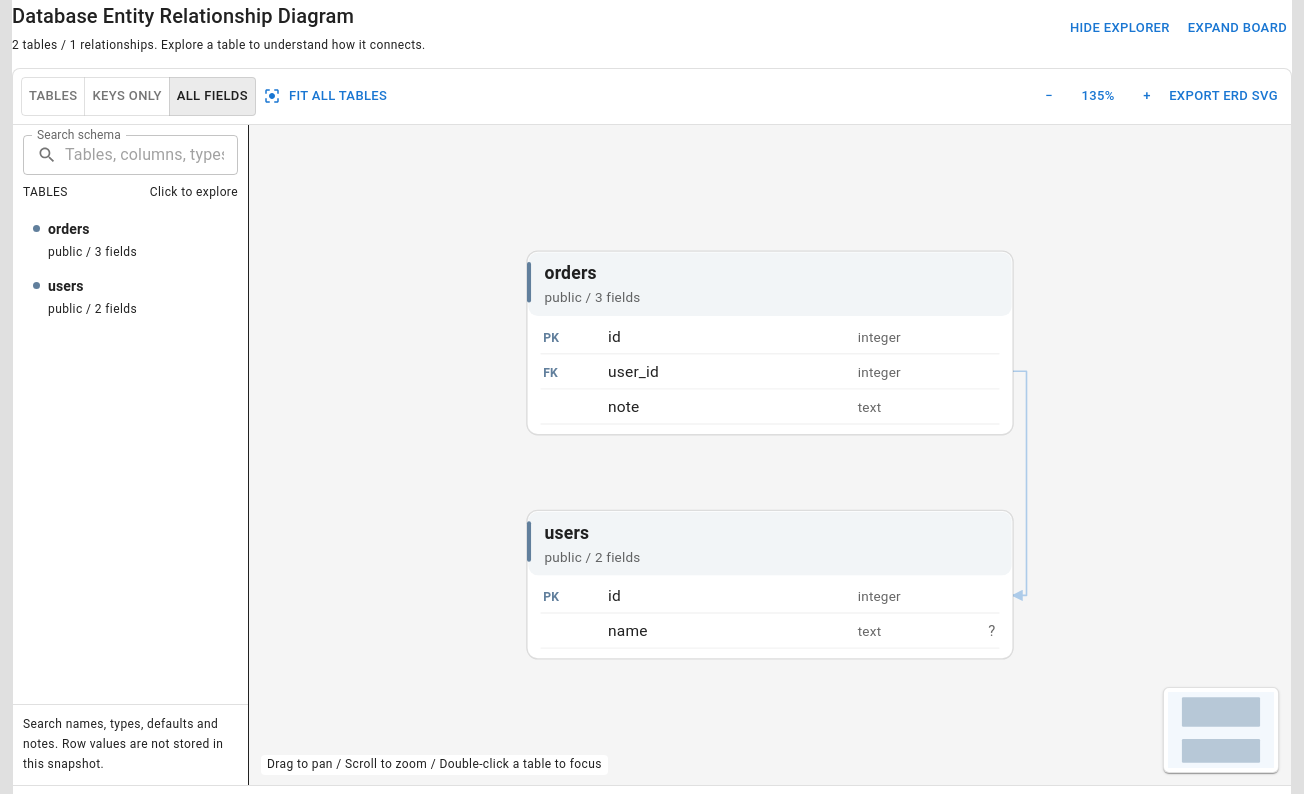
Scenario: filters tables and handles searches without matches
The image size is (1304, 794).
Type "orders" into the field labelled "Search schema" at (152, 155), box [65,135,238,175]
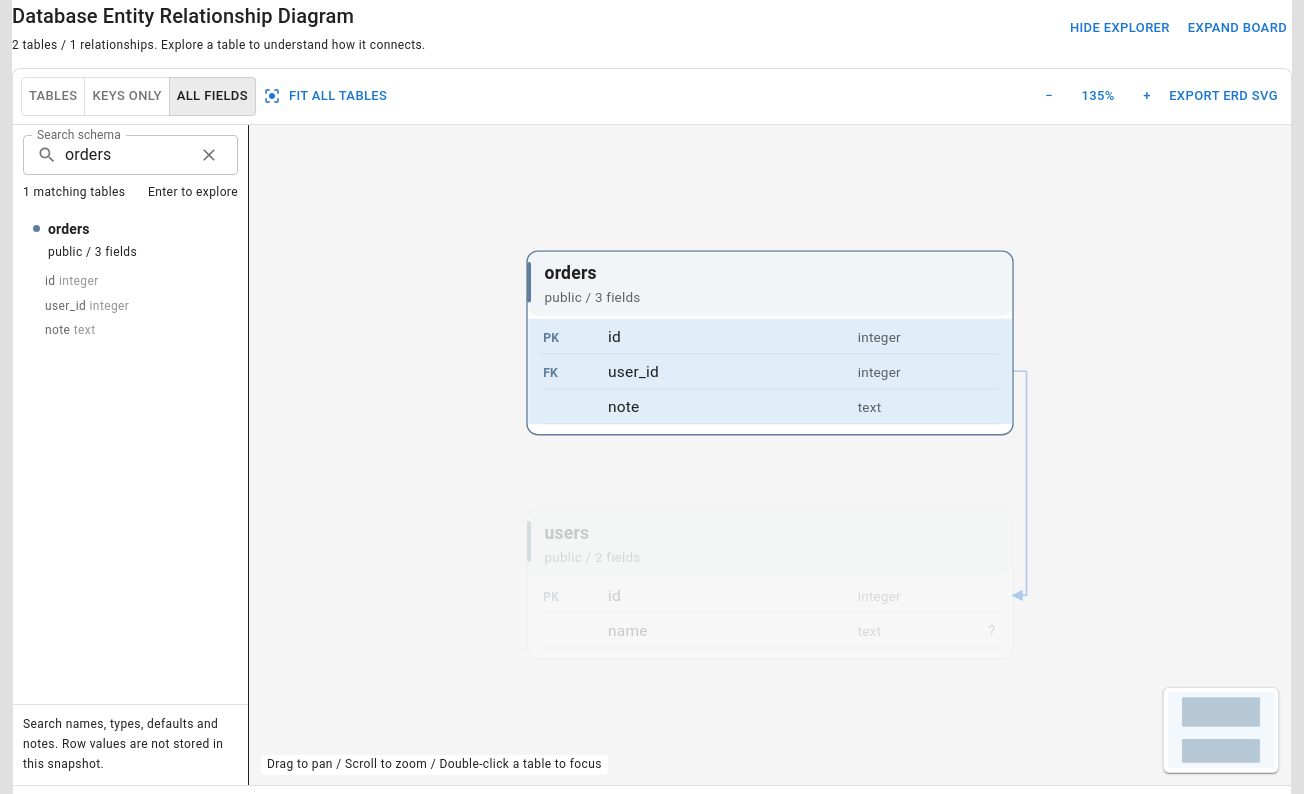
Check: the button "Focus table public.orders" is shown, box [543,263,901,416]
Check: the button "Focus table public.users" is shown, box [527,510,1013,659]
Replace the text in the field labelled "Search schema" with "absent" at (126, 155), box [65,135,186,175]
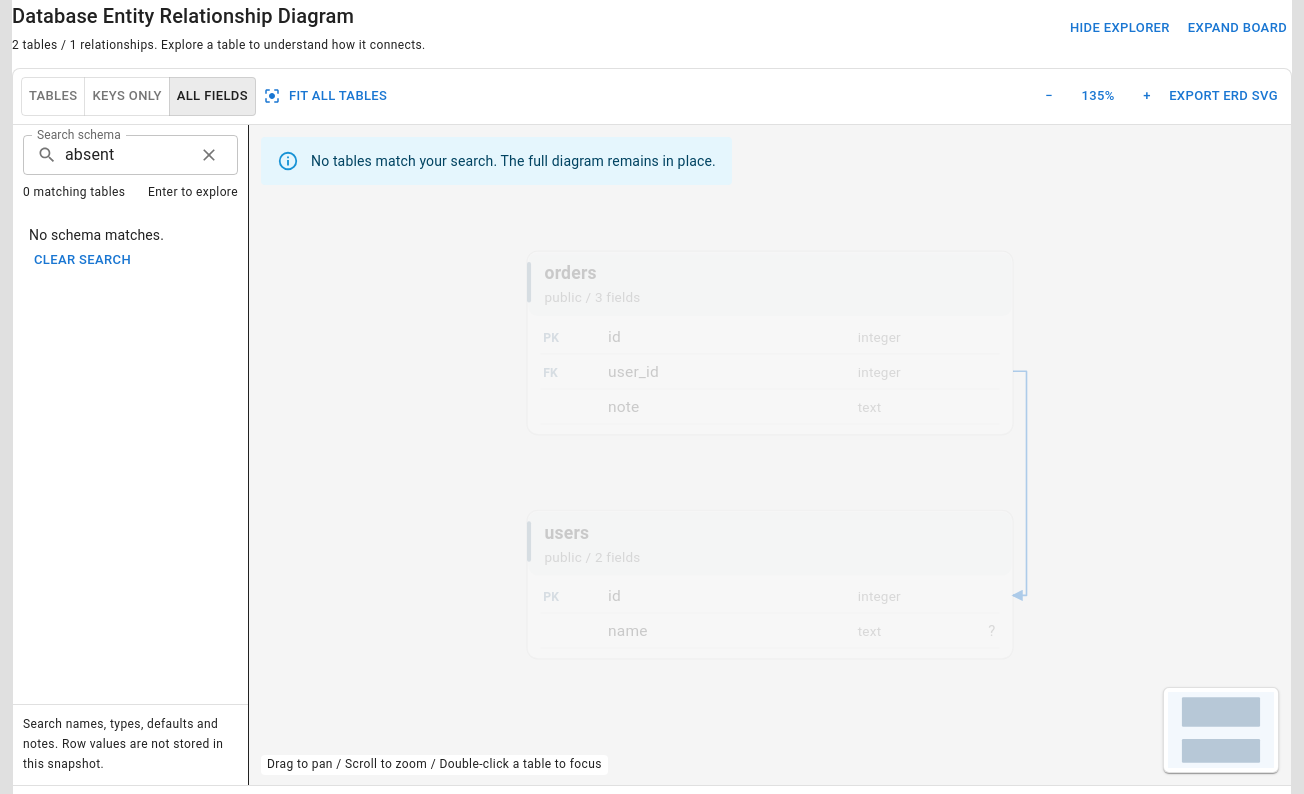
Check: the text "No tables match" is shown, box [311,153,716,169]
